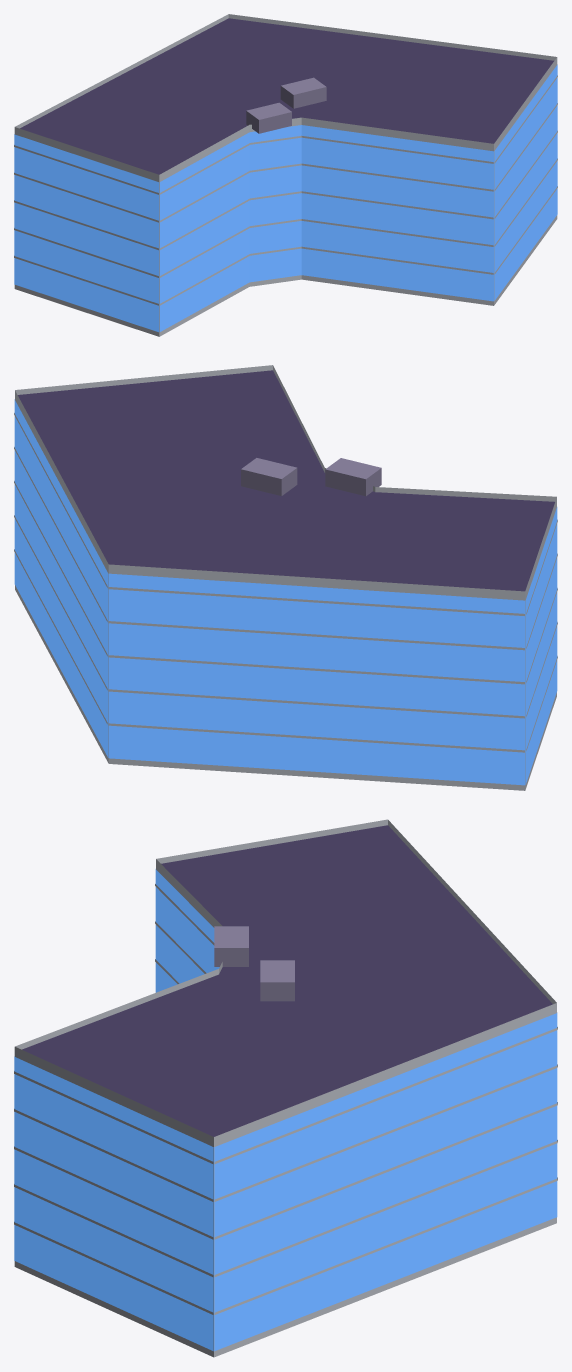
File: b-056-public-health-family-medicine.glb
The picture shows the model from 3 angles, top to bottom: view 1: azimuth 30°, elevation 25°; view 2: azimuth 150°, elevation 25°; view 3: azimuth 270°, elevation 25°; orthographic projection. The views are drawn at different scales.
Visible parts, largest first — view 1: campus/b-056-public-health-family-medicine-0; view 2: campus/b-056-public-health-family-medicine-0; view 3: campus/b-056-public-health-family-medicine-0.
Boxes of the visible parts, bbox=[...] form: campus/b-056-public-health-family-medicine-0: bbox=[14, 14, 557, 336]; campus/b-056-public-health-family-medicine-0: bbox=[14, 365, 557, 790]; campus/b-056-public-health-family-medicine-0: bbox=[14, 819, 557, 1357].
Size of the model in its own units: 65.21 by 22.3 by 47.08.
